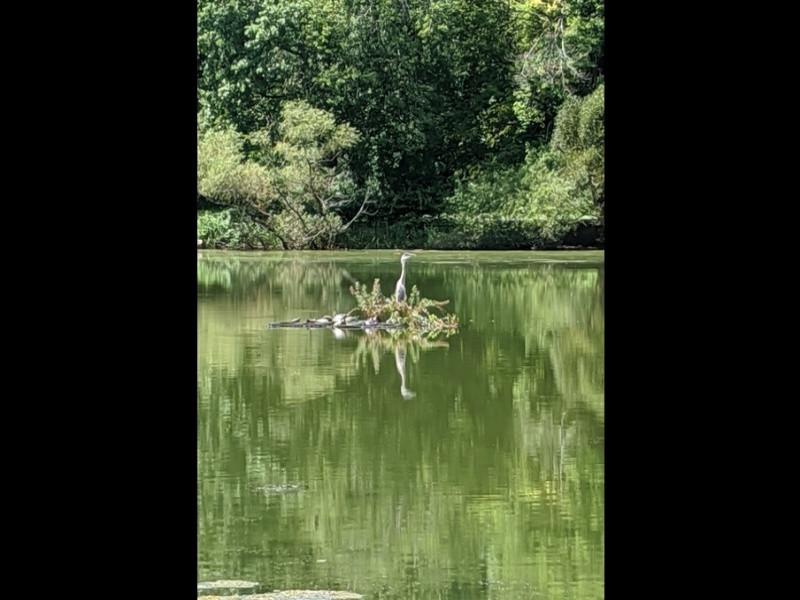heron: (390, 250, 416, 305)
